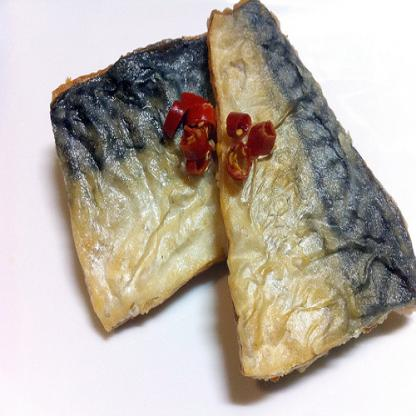Peixe: (39, 0, 416, 379)
